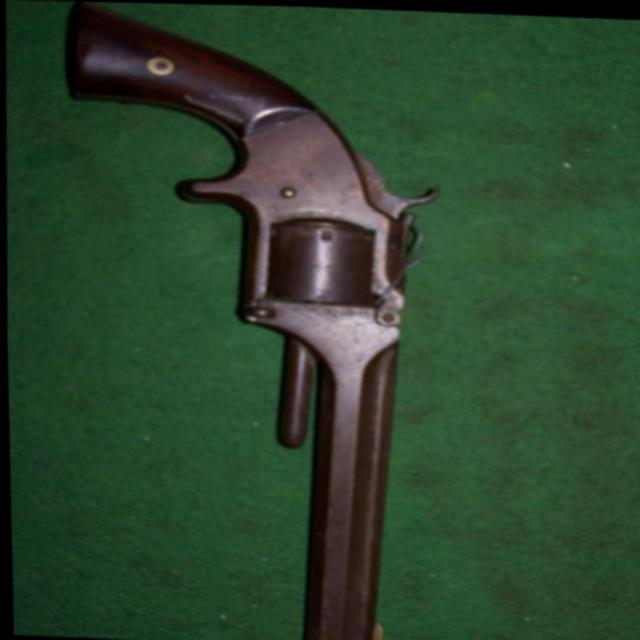weapon: (48, 1, 449, 640)
